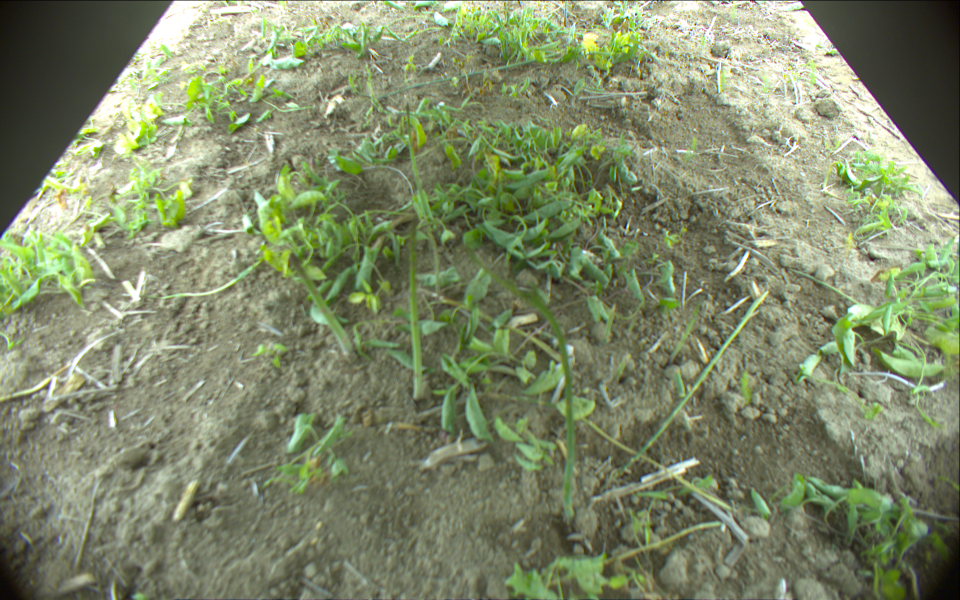aspa: (612, 290, 771, 482), (467, 246, 576, 519), (288, 251, 354, 358), (406, 214, 426, 401), (404, 101, 427, 204)
